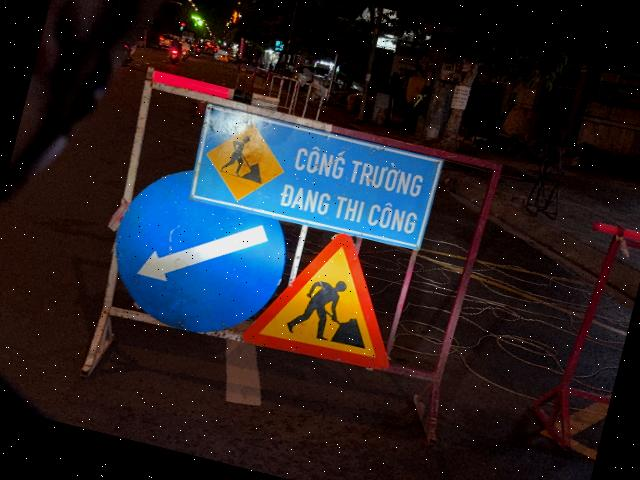cong-truong-dang-thi-cong: (240, 216, 418, 378)
huong-phai-di-vong-chuong-ngai-vat: (97, 154, 301, 351)
